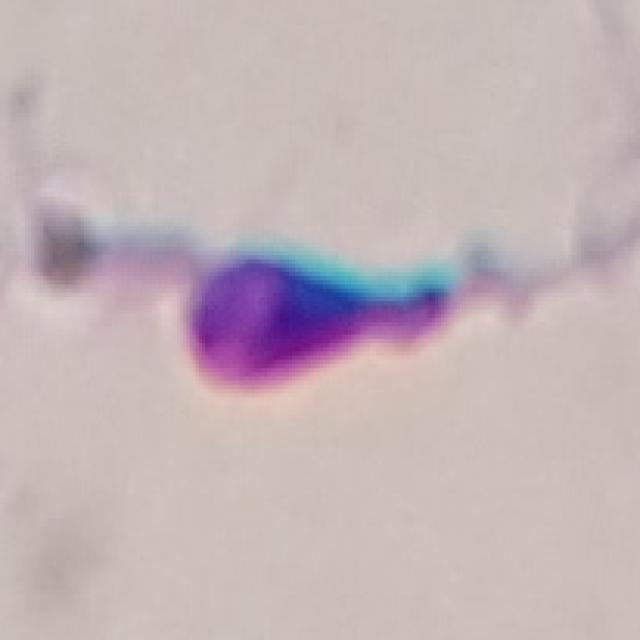abnormal sperm: (184, 241, 568, 397)
